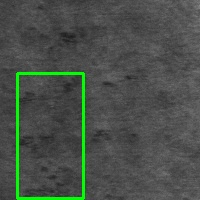rolled-in_scale: (17, 73, 83, 198), (20, 27, 83, 53)
